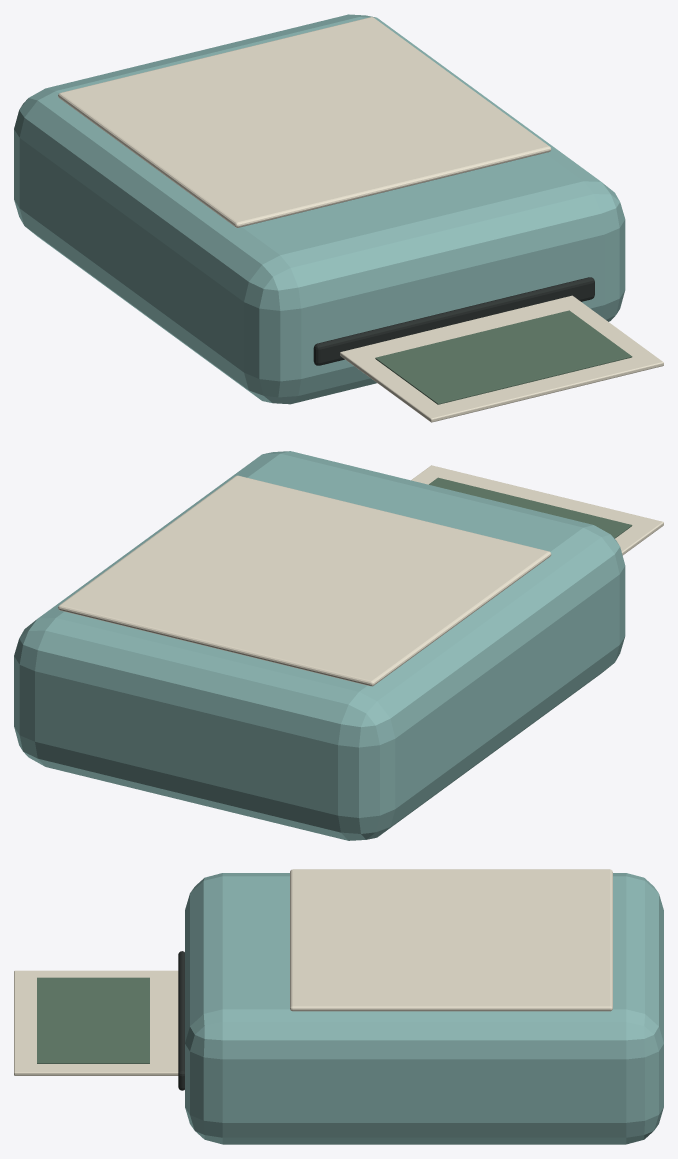
File: printer-2.glb
3 views of the same model, one above another, from view 1: azimuth 30°, elevation 25°; view 2: azimuth 150°, elevation 25°; view 3: azimuth 270°, elevation 25° (orthographic). The views are drawn at different scales.
Parts seen in each view (by area): view 1: Printer shell, Lid inset, Photo inset, Paper, Output slot; view 2: Printer shell, Lid inset, Paper, Photo inset; view 3: Printer shell, Lid inset, Photo inset, Paper, Output slot.
Boxes of the visible parts, x1,y1,x2,y2 form: Printer shell: (14, 14, 625, 404); Lid inset: (58, 17, 551, 227); Photo inset: (375, 310, 632, 404); Paper: (340, 295, 663, 422); Output slot: (313, 277, 594, 365); Printer shell: (14, 451, 625, 840); Lid inset: (58, 475, 551, 686); Paper: (411, 465, 663, 555); Photo inset: (429, 477, 632, 538); Printer shell: (185, 873, 663, 1144); Lid inset: (290, 869, 612, 1011); Photo inset: (37, 977, 149, 1063); Paper: (14, 970, 178, 1075); Output slot: (178, 951, 184, 1090).
Size of the model in its own units: 0.145 by 0.056 by 0.2415.
